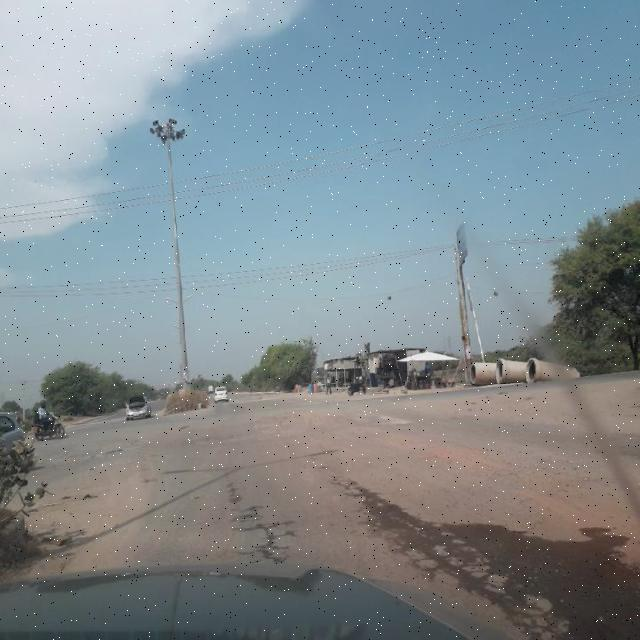D00: (221, 484, 306, 562)
D20: (396, 506, 585, 629)
